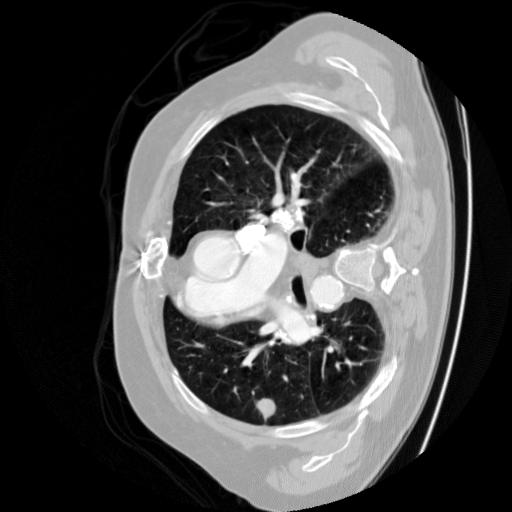nodule: (252, 392, 281, 421)
